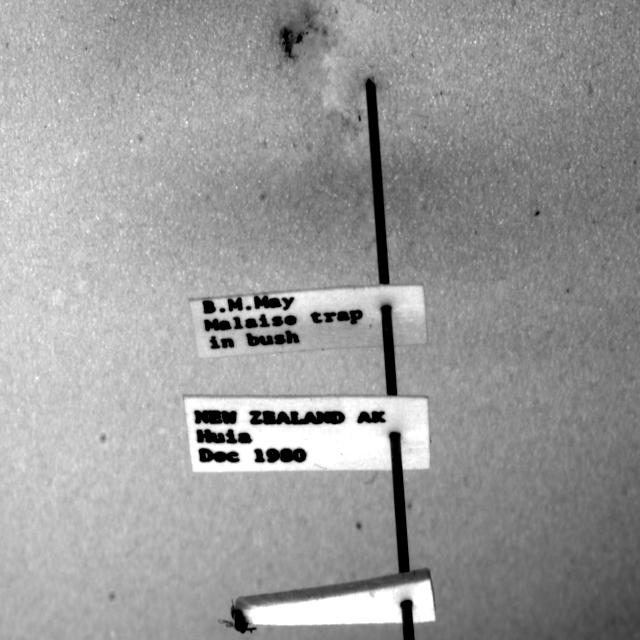typed_label: (184, 396, 430, 472), (190, 285, 428, 358)
